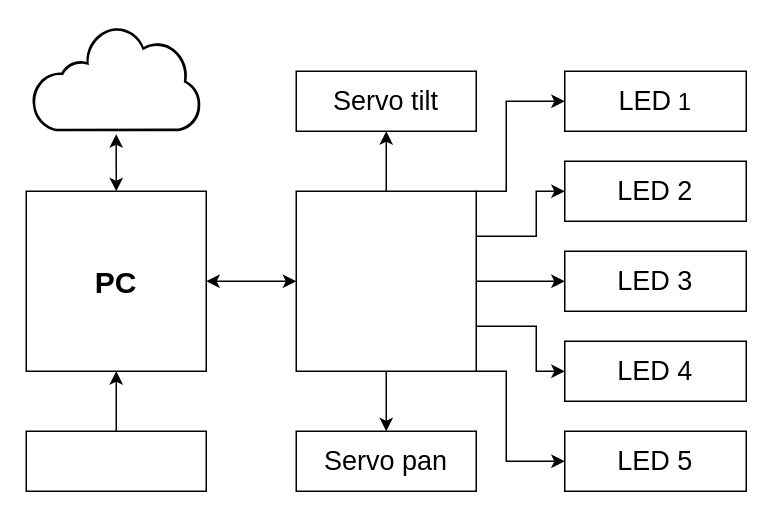
Some shapes in this 773 by 518 pixel diagram are drawn without their labels. The box of each missing label's shape, as (x1, y1, x2, y2) in pixels:
Cloud: (31, 26, 200, 130)
WebCam: (25, 430, 206, 491)
μC: (295, 190, 476, 371)
